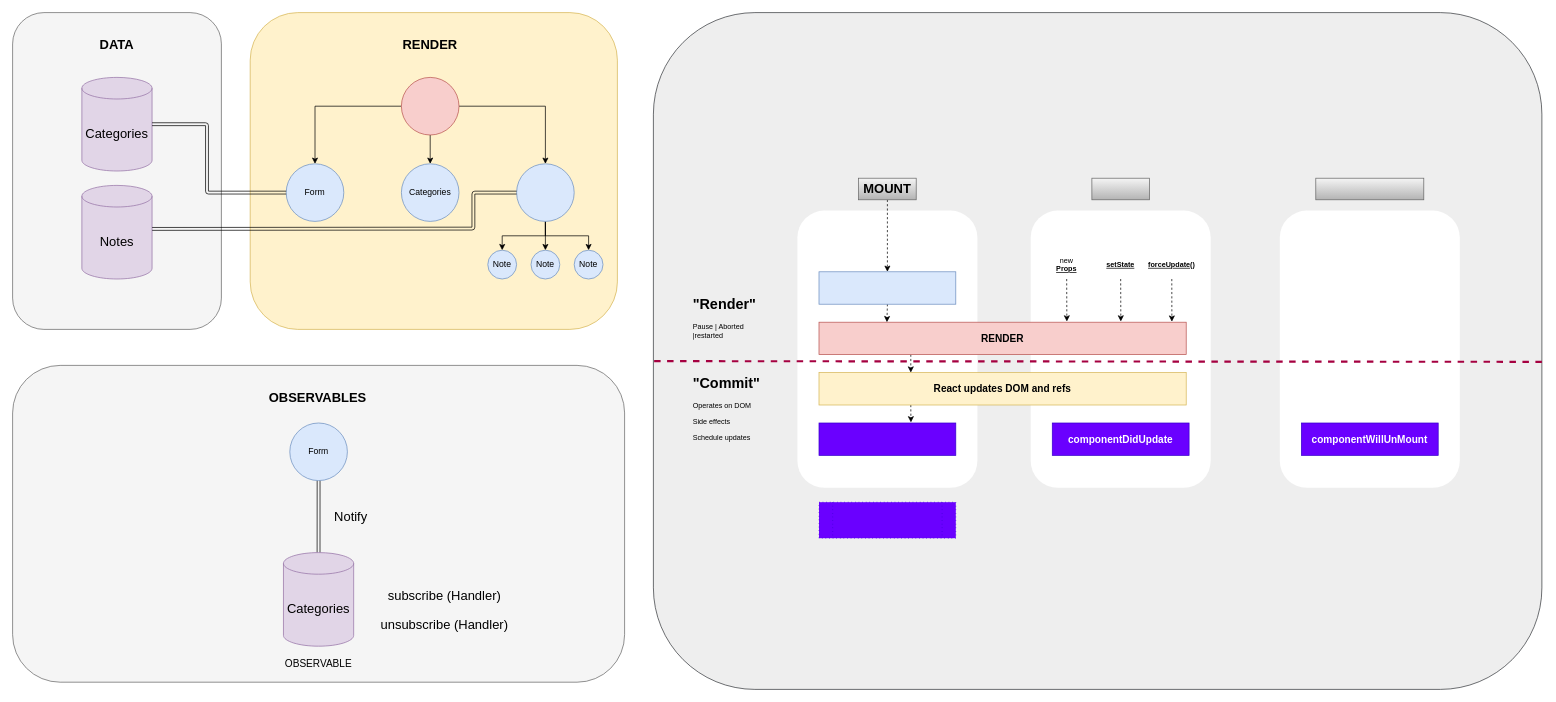
Some shapes in this 1556 by 702 pixel diagram are drawn without their labels. Each missing label, with the centre of its shape:
"API Calls, setState" belongs at point 887,519.
"APP" belongs at point 430,106.
"componentDidMount" belongs at point 887,438.
"CONSTRUCTOR" belongs at point 887,287.
"NoteList" belongs at point 545,192.
"UNMOUNT" belongs at point 1369,188.
"UPDATE" belongs at point 1120,188.
